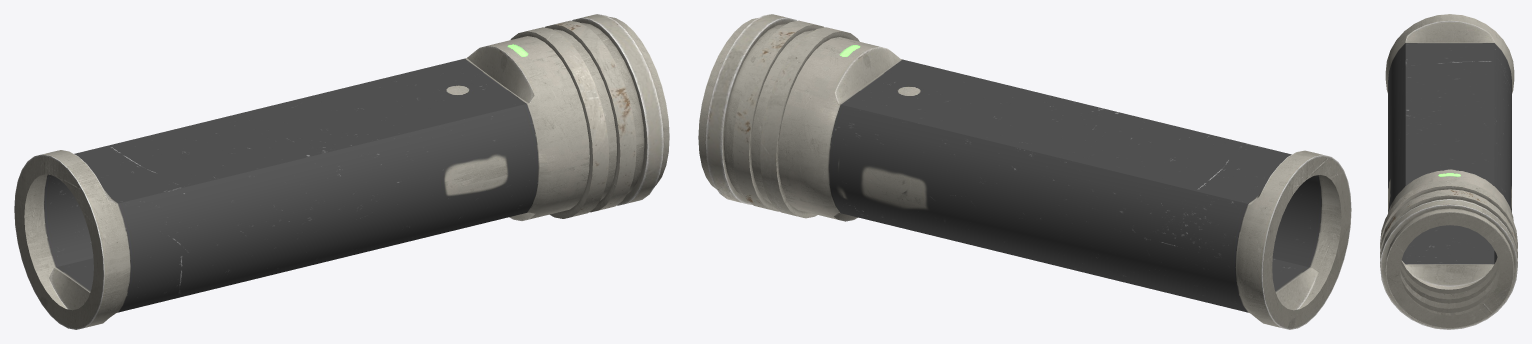
The model's file is grip_13_c_d.glb.
3 views of the same model, side by side, from view 1: azimuth 30°, elevation 25°; view 2: azimuth 150°, elevation 25°; view 3: azimuth 270°, elevation 25° (orthographic). The views are drawn at different scales.
Visible parts, largest first — view 1: grip_13_c_d_lod0; view 2: grip_13_c_d_lod0; view 3: grip_13_c_d_lod0.
Part boxes in pixels (x1,y1,x2,y2): grip_13_c_d_lod0: (14,14,669,329); grip_13_c_d_lod0: (698,14,1351,329); grip_13_c_d_lod0: (1380,14,1517,329).
Size of what is drawn, in the model's own units: 0.1052 by 0.031 by 0.0309.
1 material, 1 textured.
